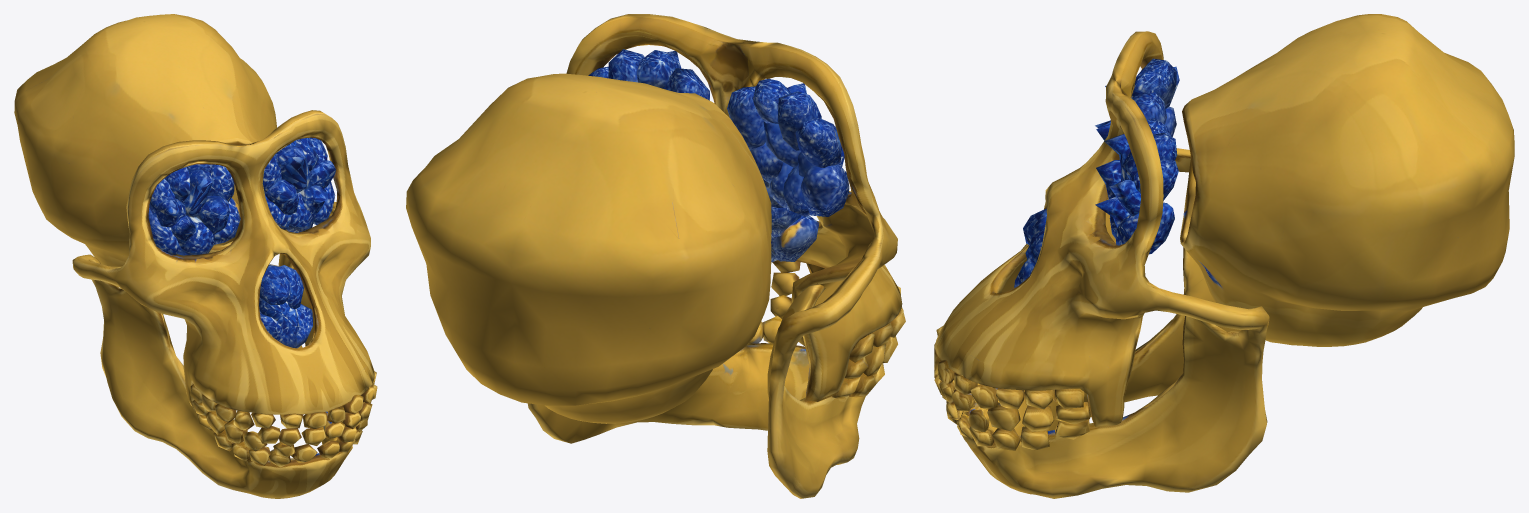
File: Surge_Skull_AC.glb
3 renders of one model, left to right at view 1: azimuth 30°, elevation 25°; view 2: azimuth 150°, elevation 25°; view 3: azimuth 270°, elevation 25°, orthographic. The views are drawn at different scales.
Visible parts, largest first — view 1: Mesh_0.002; view 2: Mesh_0.002; view 3: Mesh_0.002.
Boxes of the visible parts, <box> form: Mesh_0.002: <box>14,14,377,498</box>; Mesh_0.002: <box>406,14,905,498</box>; Mesh_0.002: <box>934,14,1514,498</box>.
Size of the model in its own units: 1.35 by 1.8 by 2.14.
Materials: 1 (1 with a texture image).
